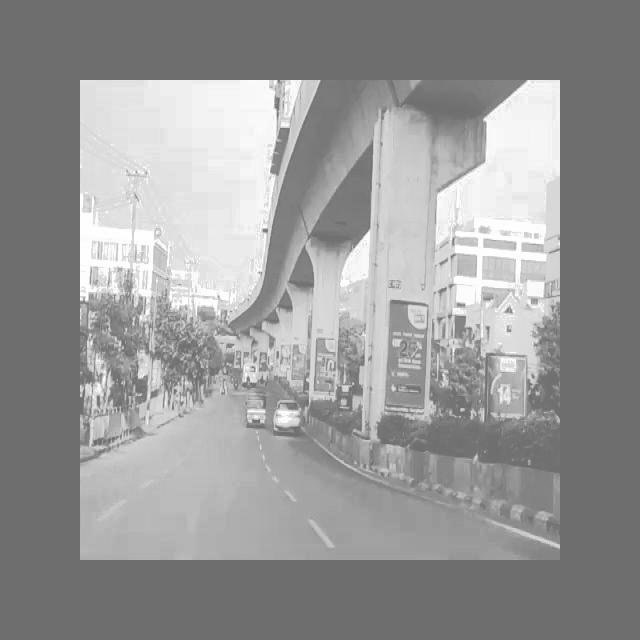Car: (267, 384, 306, 438)
